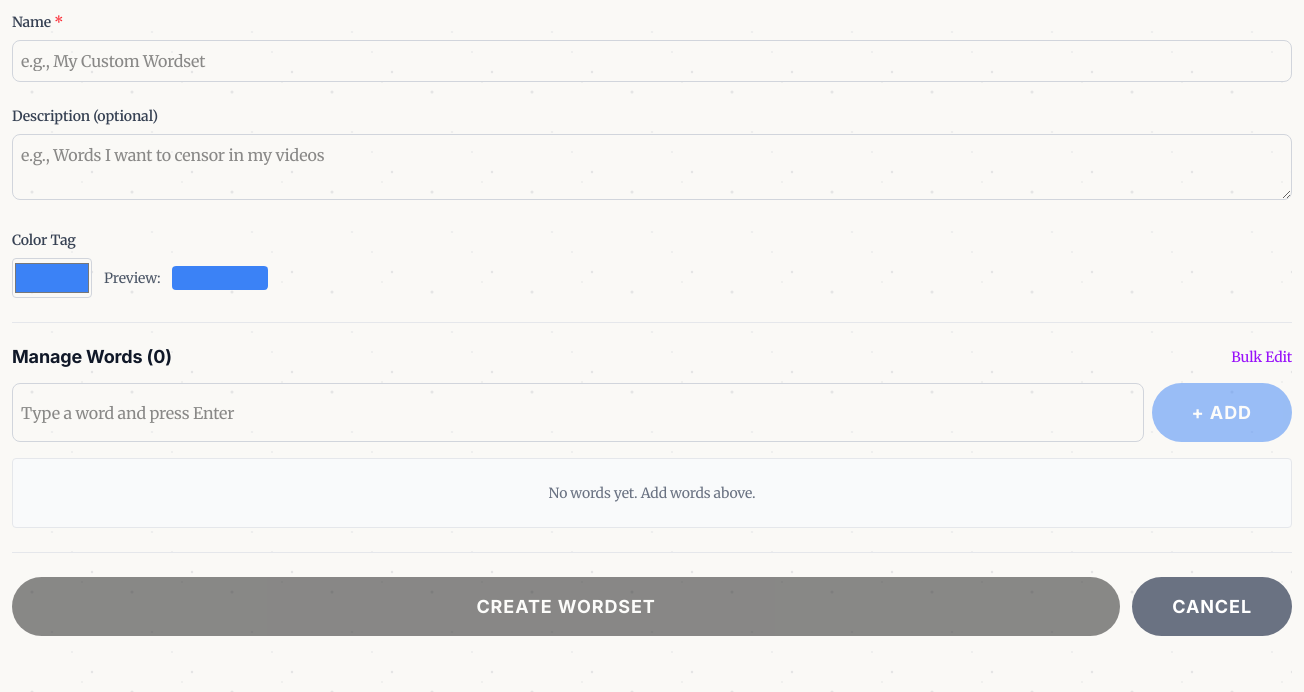
Scenario: WordsetEditor › bulk edit mode › toggles bulk edit mode
The image size is (1304, 692).
What coordinates should you click on to do the following:
click the button "Bulk Edit"
I would click on:
 (1262, 357)
Its box is x1=1231 y1=347 x2=1292 y2=367.
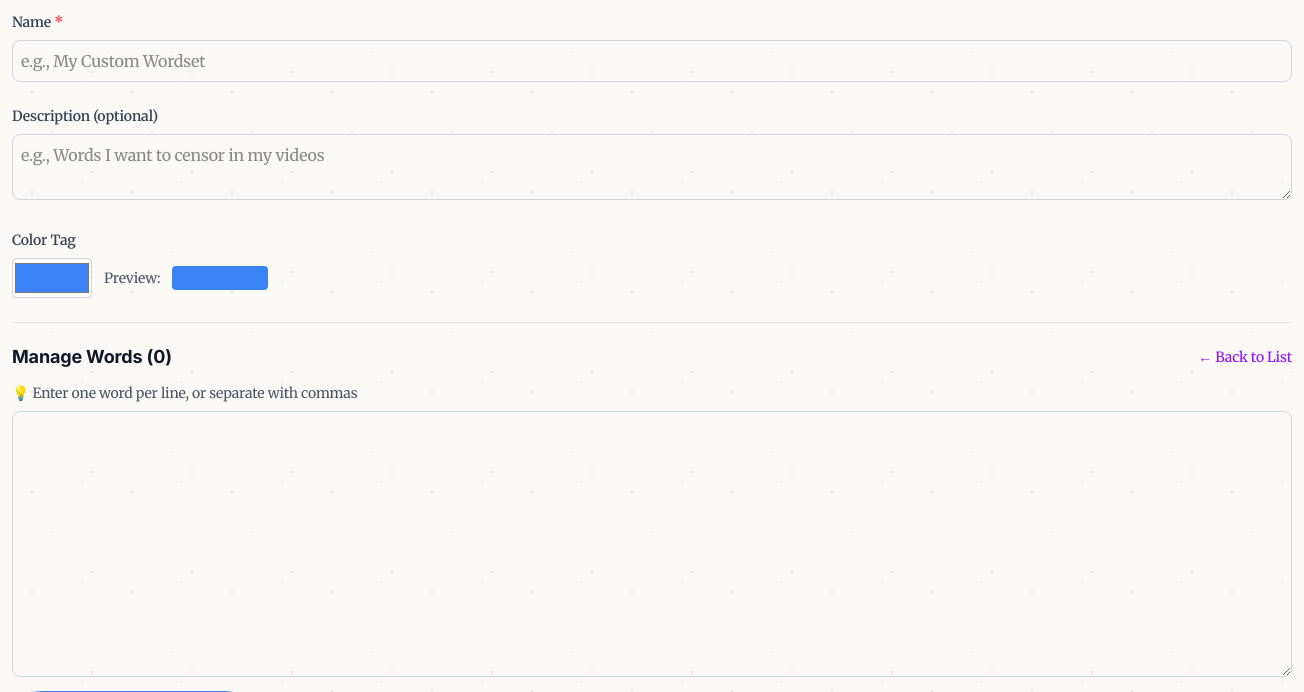
Expected: the text box with test id "bulk-edit-textarea" is shown, x1=12 y1=411 x2=1292 y2=677
Expected: the button "← Back to List" is shown
What coordinates should you click on to do the following:
click the button "← Back to List"
I would click on:
 (1245, 357)
Its box is x1=1198 y1=347 x2=1292 y2=367.
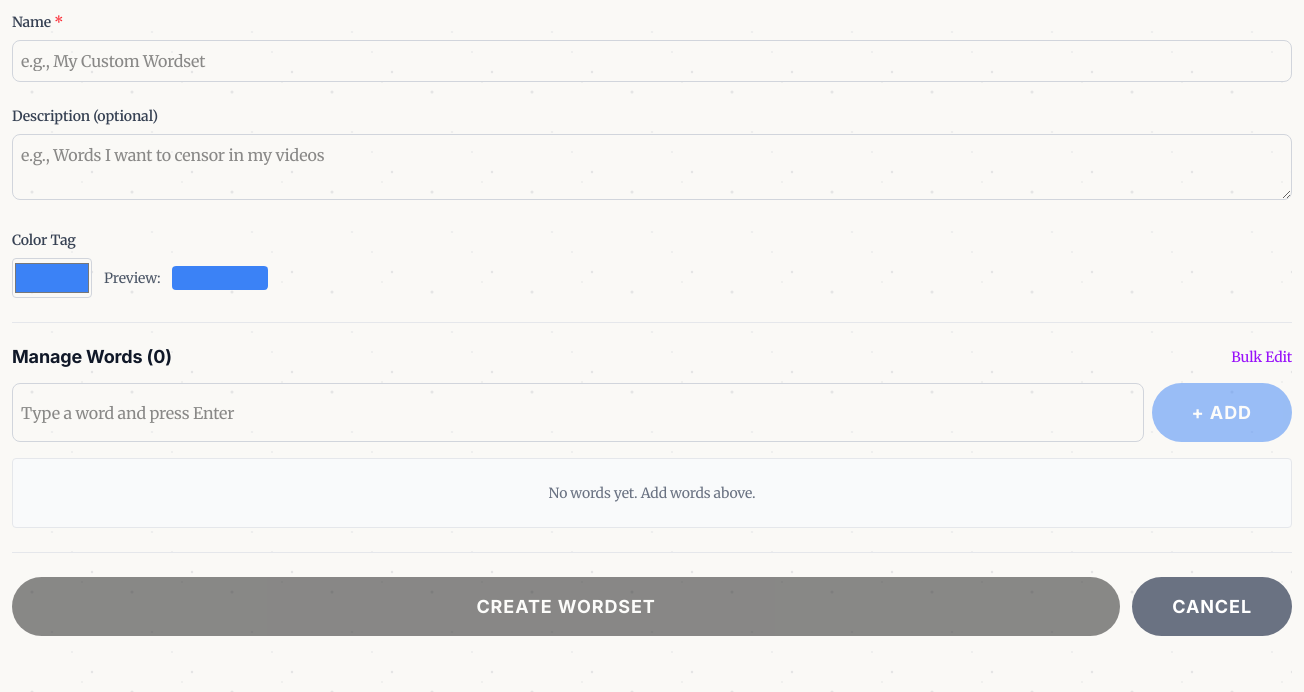
Expected: the text box with test id "bulk-edit-textarea" is gone
Expected: the button "Bulk Edit" is shown, x1=1231 y1=347 x2=1292 y2=367
